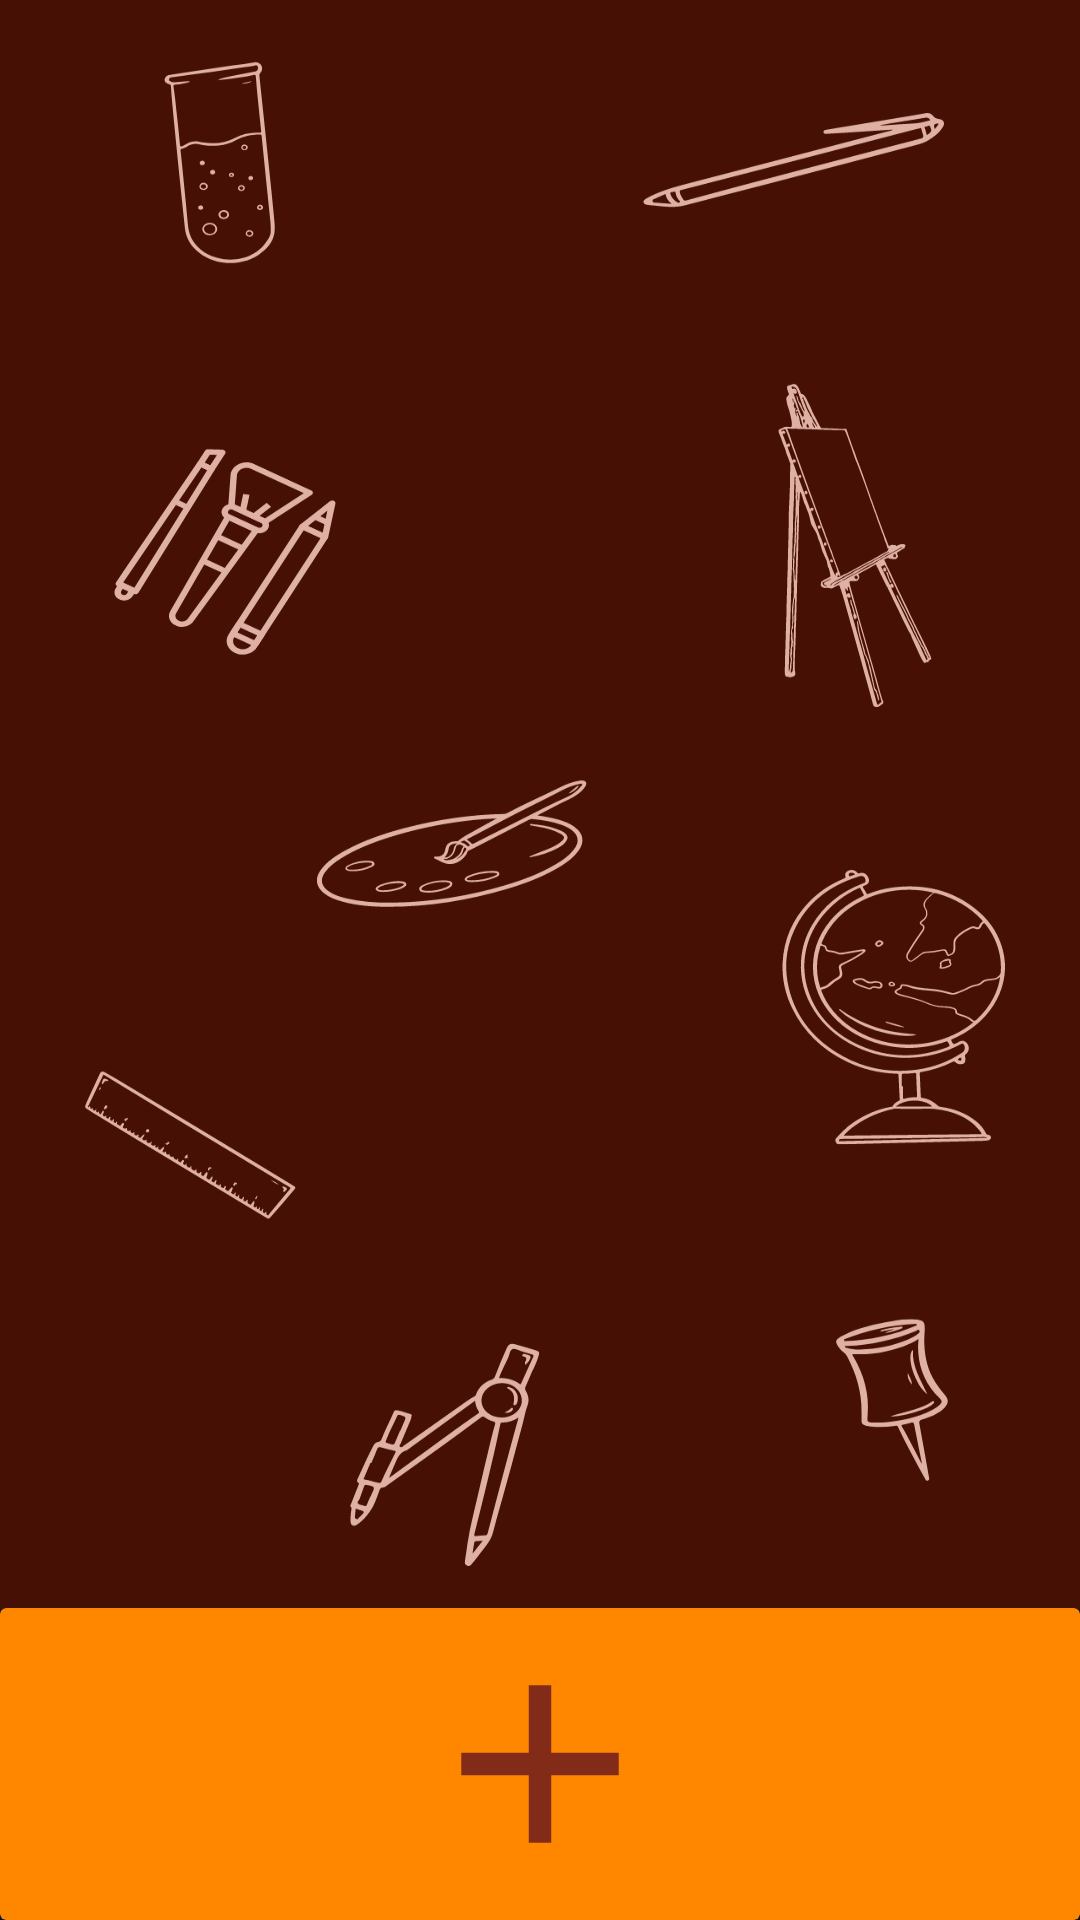

Icons on this 1080x1920 Android screen, each with the point to tap as [x,y]:
add: [540,1764]
